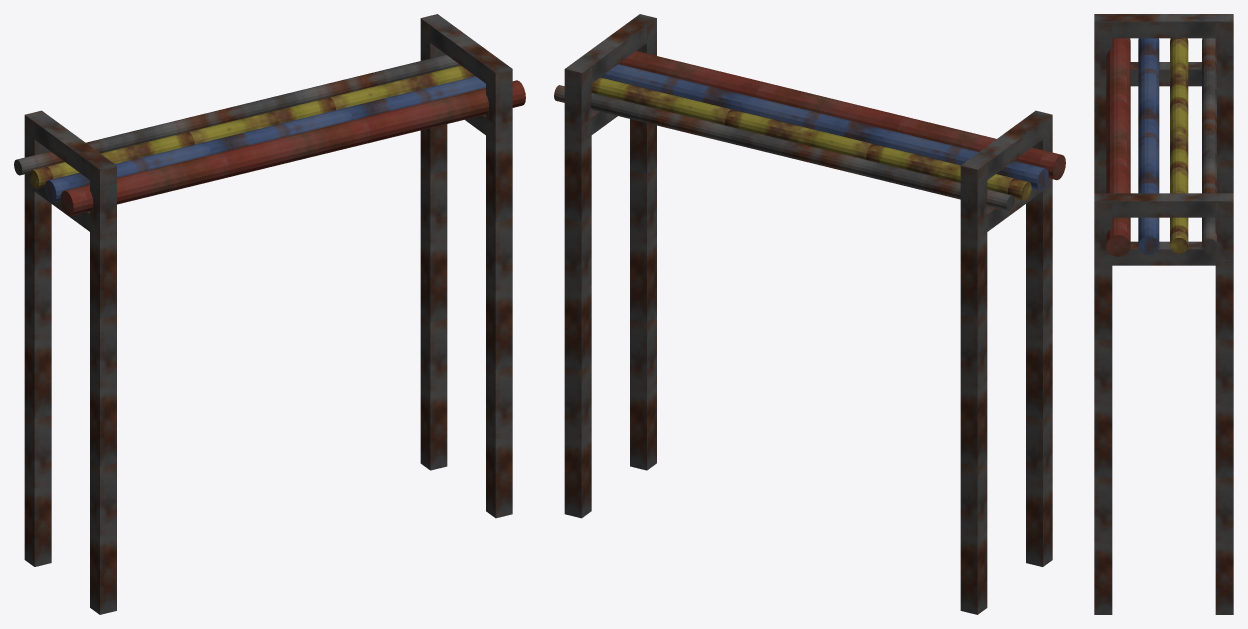
The model's file is HM13_OverheadPipeRack.glb.
The picture shows the model from 3 angles, left to right: view 1: azimuth 30°, elevation 25°; view 2: azimuth 150°, elevation 25°; view 3: azimuth 270°, elevation 25°; orthographic projection. The views are drawn at different scales.
Parts seen in each view (by area): view 1: HM13_OverheadPipeRack; view 2: HM13_OverheadPipeRack; view 3: HM13_OverheadPipeRack.
Boxes of the visible parts, bbox=[...] form: HM13_OverheadPipeRack: bbox=[14, 14, 525, 614]; HM13_OverheadPipeRack: bbox=[554, 14, 1065, 614]; HM13_OverheadPipeRack: bbox=[1094, 14, 1233, 614].
Size of the model in its own units: 3 by 2.82 by 0.8625.
5 materials, 5 textured.
